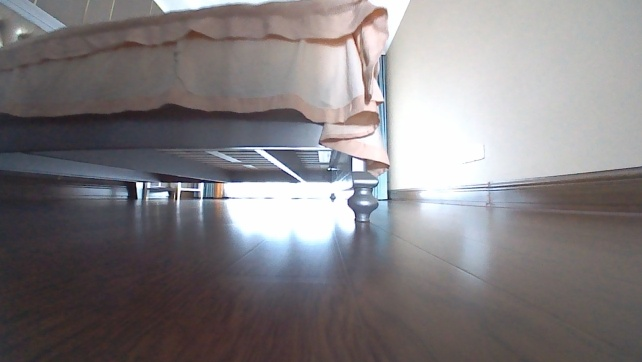bed1: (0, 0, 394, 222)
